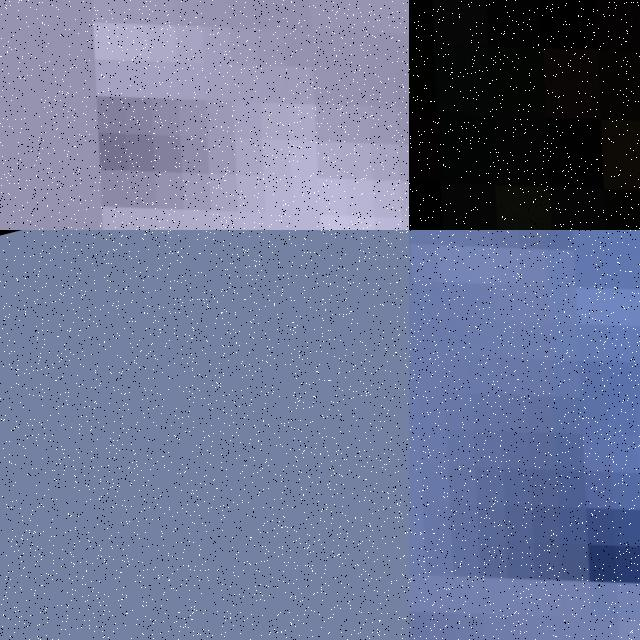drone: (409, 230, 640, 640), (0, 0, 409, 230), (409, 0, 640, 230)
